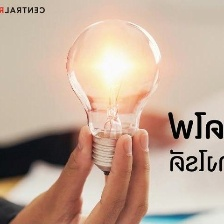light_bulb: (62, 15, 164, 183)
